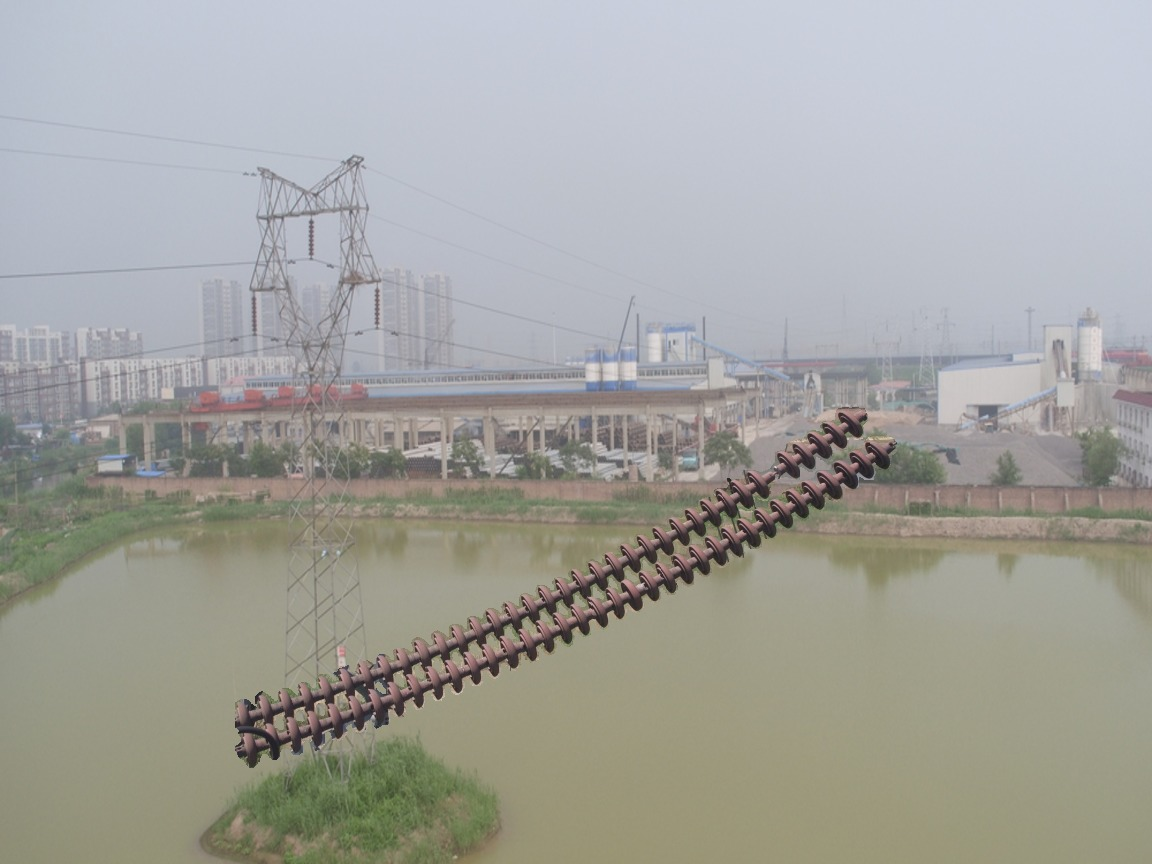defect: (740, 449, 805, 501)
